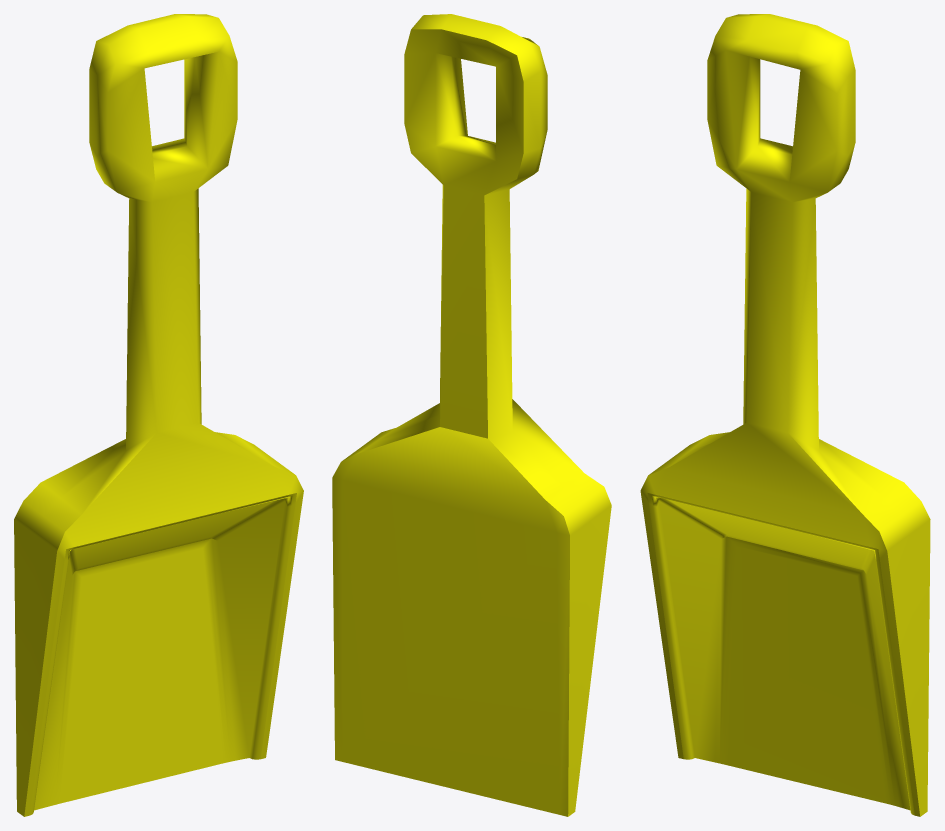
3 renders of one model, left to right at view 1: azimuth 30°, elevation 25°; view 2: azimuth 150°, elevation 25°; view 3: azimuth 330°, elevation 25°, orthographic. The views are drawn at different scales.
Parts seen in each view (by area): view 1: pCube1; view 2: pCube1; view 3: pCube1.
Part boxes in pixels (left/top/right/bottom): pCube1: left=14, top=14, right=303, bottom=816; pCube1: left=332, top=14, right=611, bottom=816; pCube1: left=640, top=14, right=930, bottom=816.
Size of the model in its own units: 14.28 by 43.06 by 4.55.
1 material, 1 textured.
